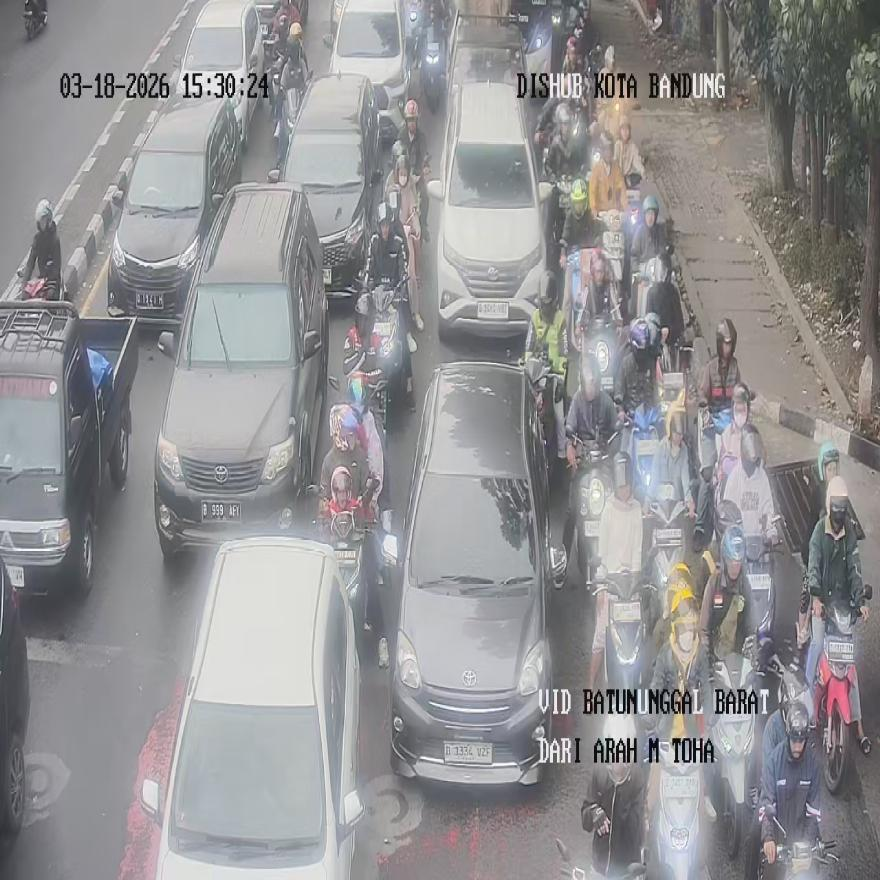Motor: (380, 360, 566, 784), (140, 534, 364, 878), (152, 180, 328, 556), (426, 14, 554, 338), (0, 301, 140, 595), (107, 96, 241, 328), (279, 72, 382, 298), (323, 0, 411, 150), (178, 0, 262, 150)
Truk: (312, 477, 392, 666), (810, 584, 872, 792), (704, 654, 762, 863), (582, 714, 648, 880), (351, 278, 411, 426), (592, 564, 644, 712), (649, 737, 702, 880), (569, 430, 616, 589), (746, 805, 838, 880), (643, 483, 689, 629), (525, 354, 564, 486), (624, 404, 663, 510), (555, 836, 646, 879), (580, 314, 620, 403), (519, 1, 554, 99), (597, 209, 627, 304), (421, 14, 448, 112), (274, 77, 302, 170), (16, 268, 61, 303), (404, 0, 426, 68), (23, 0, 46, 38)
